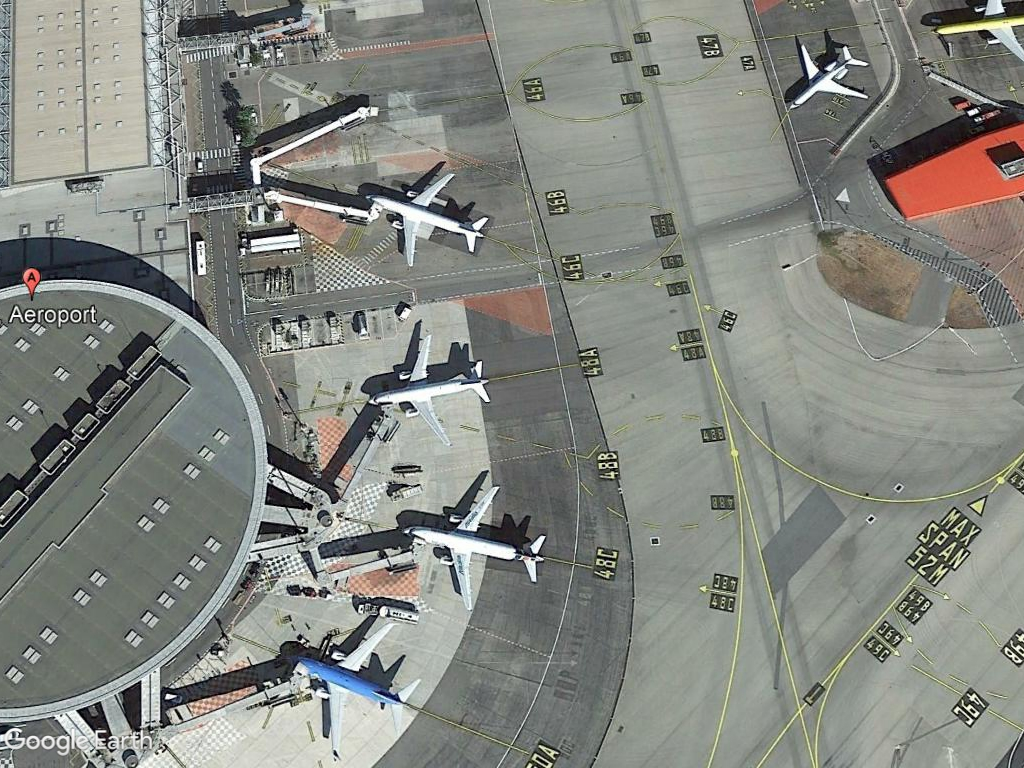airliner: (285, 611, 428, 760), (398, 484, 553, 608), (361, 162, 496, 275), (370, 331, 491, 450)
bus: (193, 236, 209, 279)
stairtruck: (380, 483, 431, 505)
